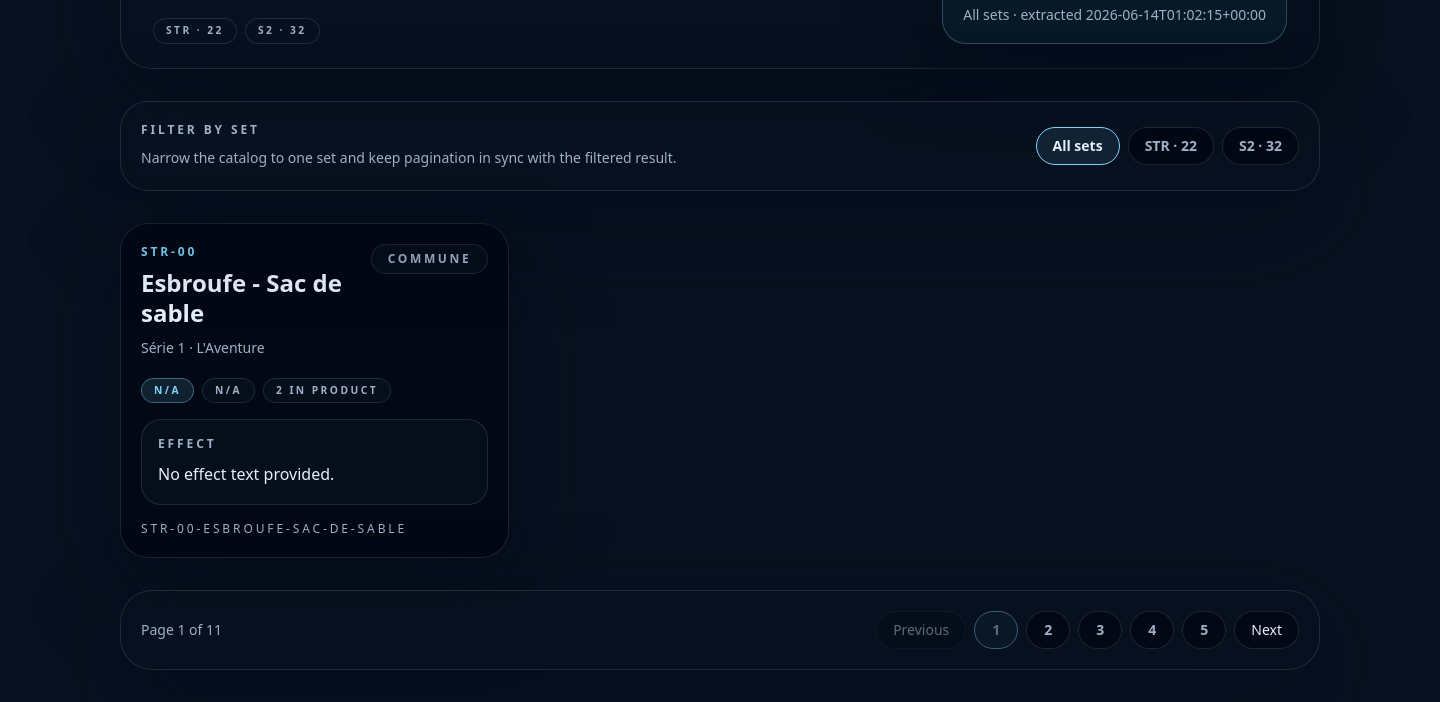
Test: CardsBrowserPageComponent › renders the first page of cards and paginates forward
(page scrolled)
Click the button "Next".
click(1267, 630)  # box x1=1234 y1=611 x2=1299 y2=649
(page scrolled)
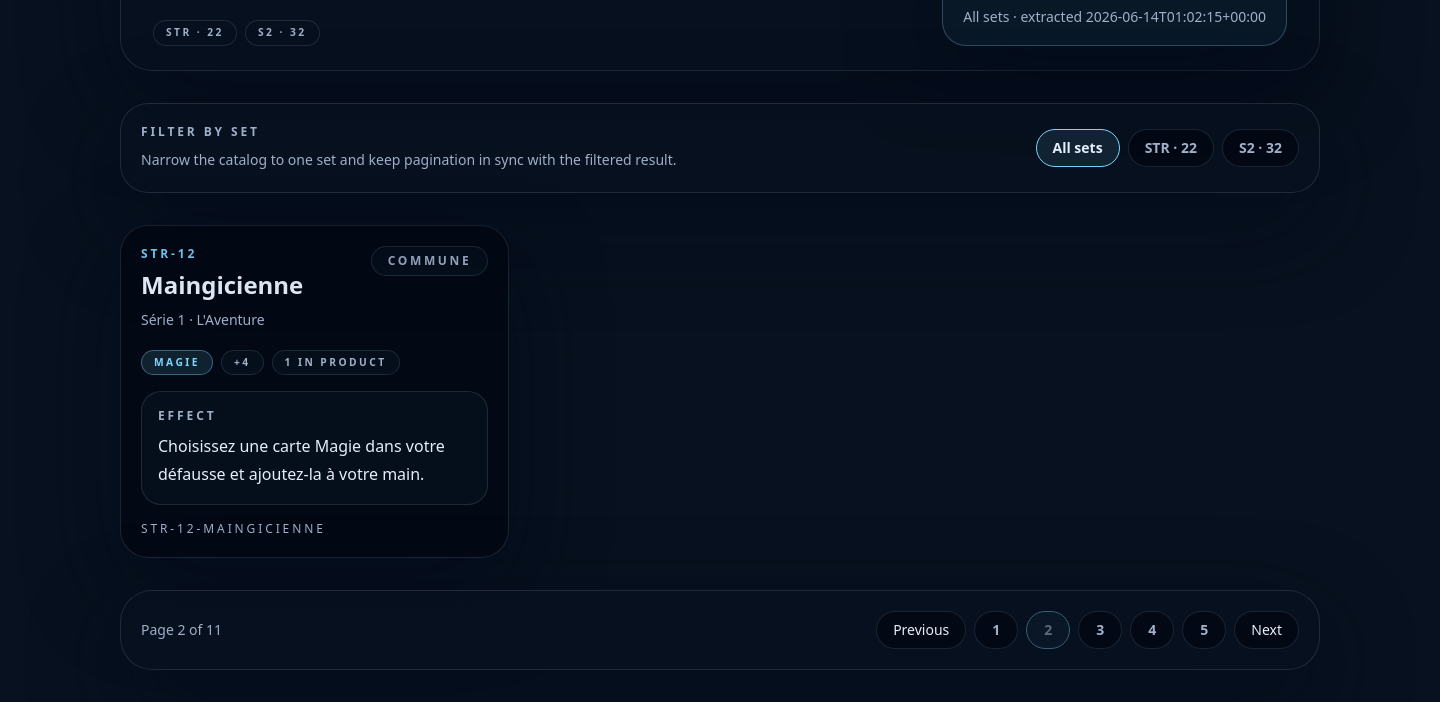
Expected: the text "Maingicienne" is shown, x1=141 y1=270 x2=303 y2=300
Click the button "S2 · 32".
click(1260, 148)  # box x1=1222 y1=129 x2=1299 y2=167
(page scrolled)
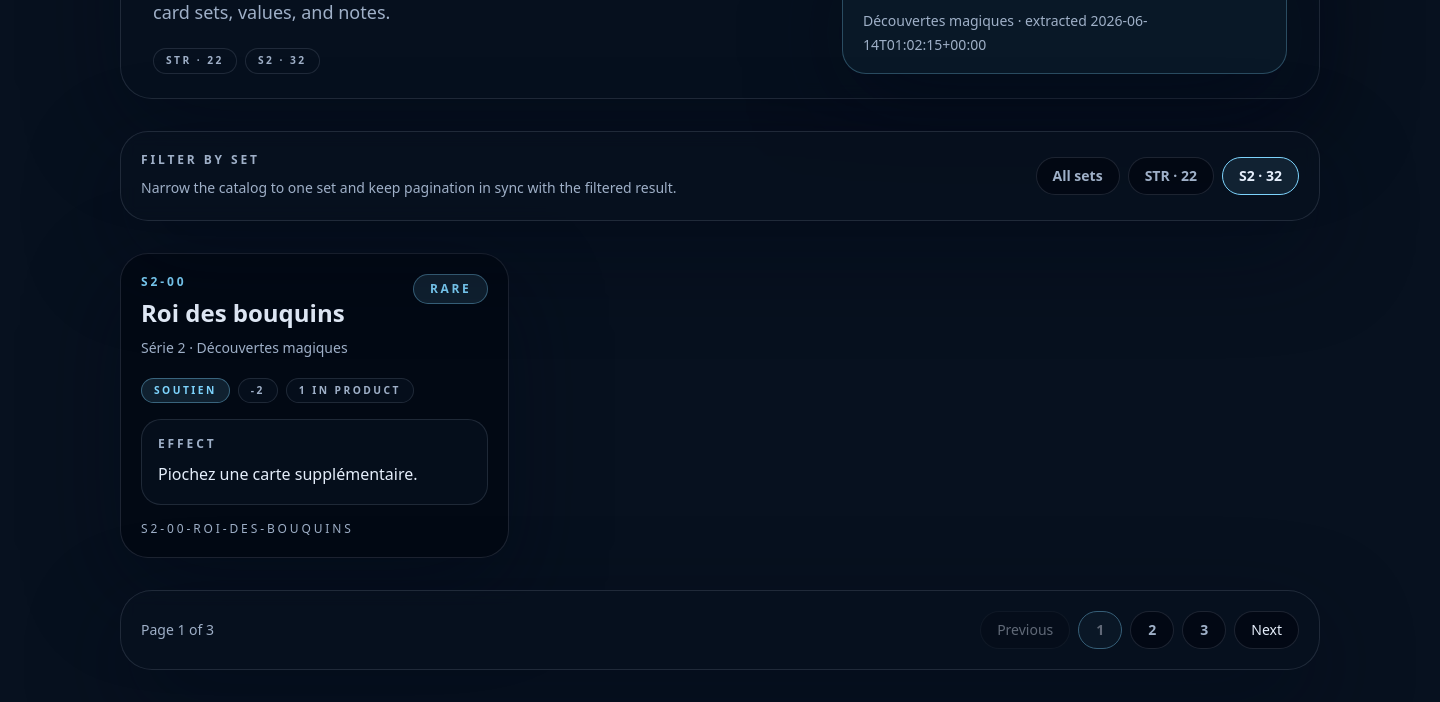
Expected: the text "Roi des bouquins" is shown, x1=141 y1=298 x2=348 y2=328
